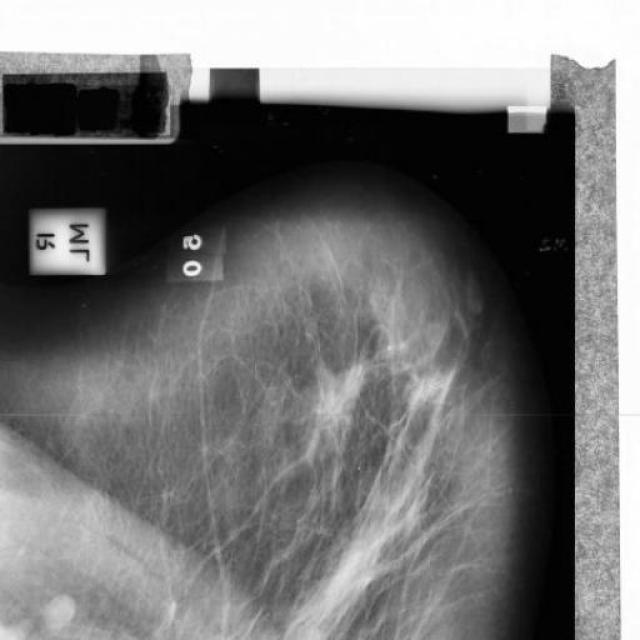cancer: (295, 348, 373, 448)
